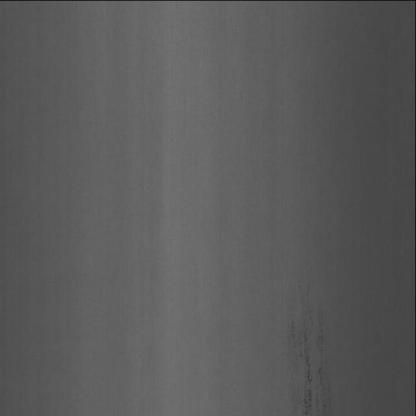inclusion: (283, 288, 343, 416)
